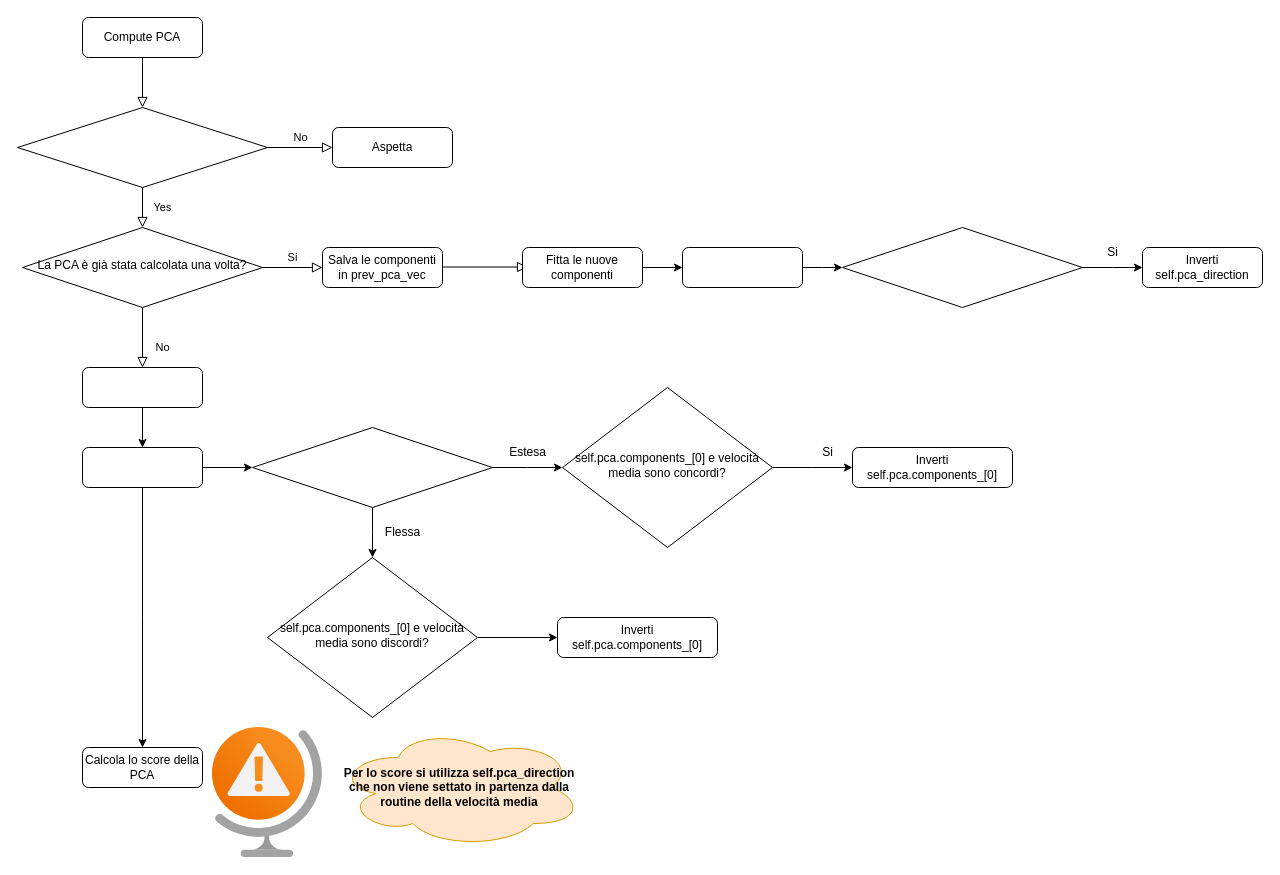
This 1280x875 diagram has some shape labels left out. Here are the shapes that lost their labels. From the top down, the centre of each, then its label:
At (x=142, y=147): "E' passato un tempo pari a window PCA?".
At (x=742, y=267): "Salvale in pca_vec".
At (x=962, y=267): "pca_vec e prev_pca_vec hanno verso opposto?".
At (x=142, y=387): "Prendi i primi sample di traiettoria".
At (x=142, y=467): "Calcola la velocità media".
At (x=372, y=467): "Parto da posizione estesa o flessa?".
